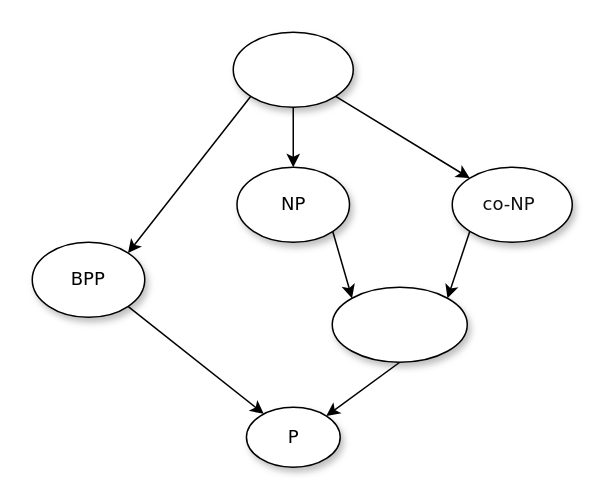
The diagram is 608 pixels wide and 504 high, and some of its shapes have lost their labels. Here are the shapes that lost their labels. From the top down, the centre of each, then its label:
the point at 294,71: PP
the point at 400,326: NP ∩ co-NP
